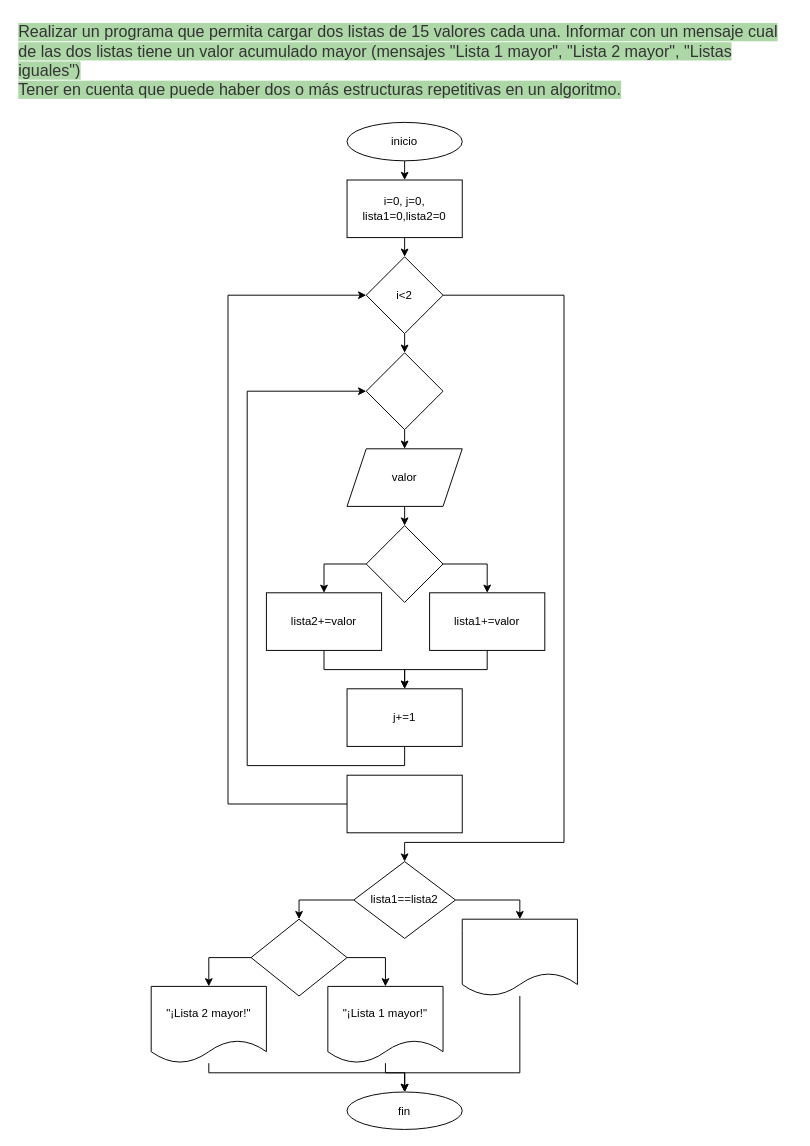
This 810x1146 diagram has some shape labels left out. The centre of each missing label's shape, as x and y in pixels:
"¡Listas iguales!": (519,957)
i+=1, j=0: (404,803)
i==0: (404,563)
j<15: (404,391)
lista1>lista2: (298,957)
